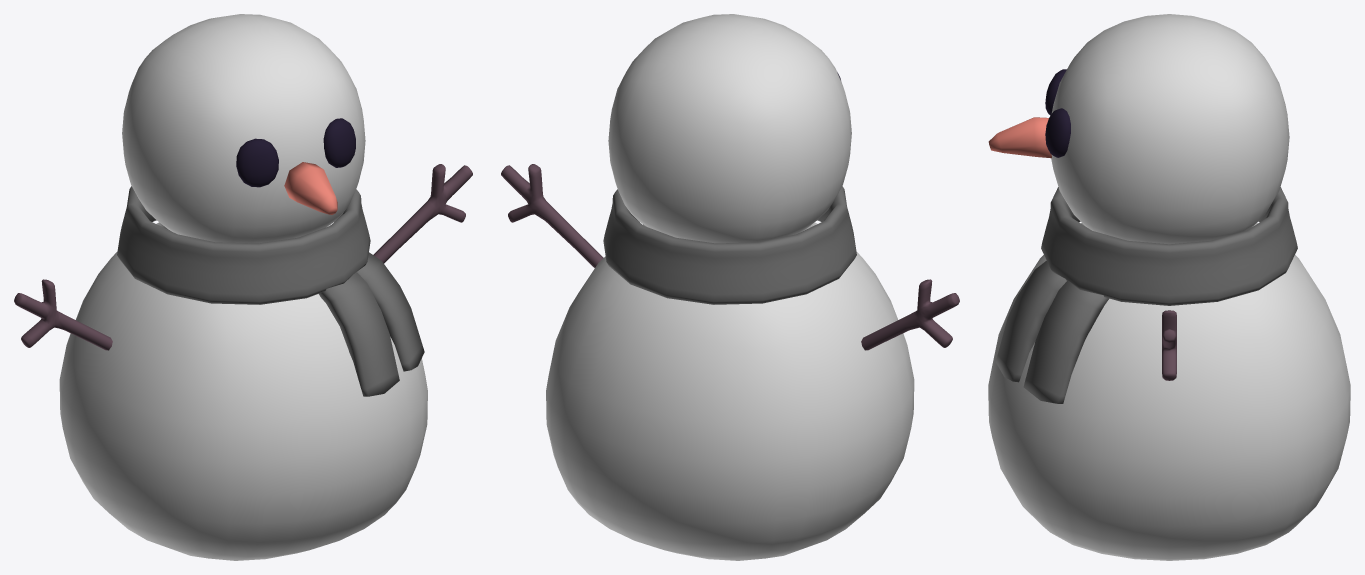
File: Base_Snowman.fbx
The picture shows the model from 3 angles, left to right: view 1: azimuth 30°, elevation 25°; view 2: azimuth 150°, elevation 25°; view 3: azimuth 270°, elevation 25°; orthographic projection.
Parts seen in each view (by area): view 1: Snowman Model; view 2: Snowman Model; view 3: Snowman Model.
Boxes of the visible parts, x1,y1,x2,y2 form: Snowman Model: (14,14,472,560); Snowman Model: (501,14,959,560); Snowman Model: (988,14,1350,560).
Bounding box in the file's own units: 0.9542 × 1 × 0.6551.
